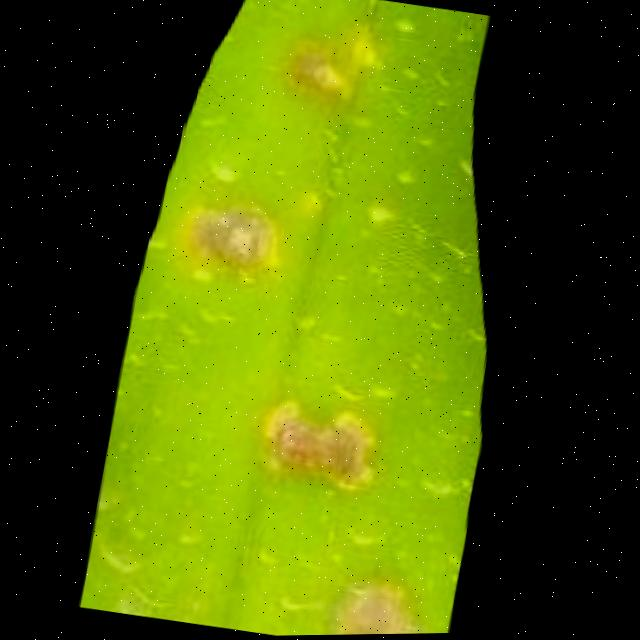mite: (275, 411, 377, 484), (205, 205, 282, 273), (391, 13, 428, 43)
spots: (73, 0, 568, 637)
sunburn: (254, 393, 394, 500)
